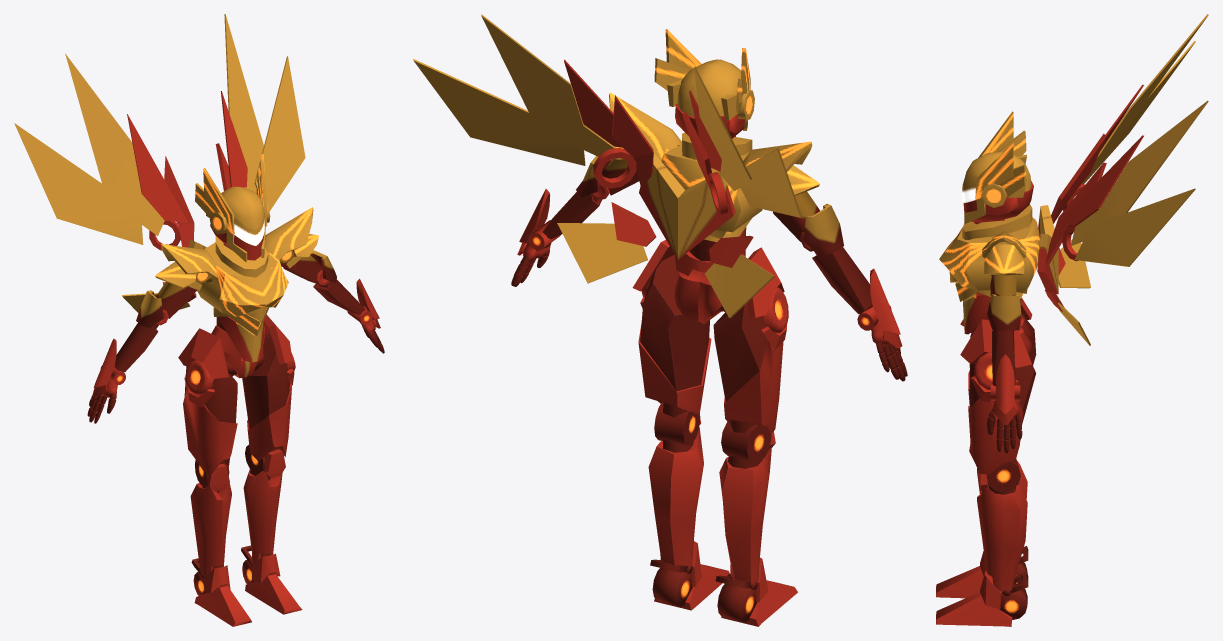
The model's file is Female_8.glb.
The picture shows the model from 3 angles, left to right: view 1: azimuth 30°, elevation 25°; view 2: azimuth 150°, elevation 25°; view 3: azimuth 270°, elevation 25°; orthographic projection. The views are drawn at different scales.
Parts seen in each view (by area): view 1: W1, WW2, WW1, GNG, BR1, GV2, GV1, NT, BR2, GV1.1, ARM1; view 2: W1, WW2, WW1, GNG, GV2, BR1, GV1, ARM1, BR2; view 3: W1, WW2, WW1, GNG, BR2, NT, GV2.2, ARM2, GV2.
Boxes of the visible parts, x1=… form: W1: x1=87, y1=154, x2=384, y2=626; WW2: x1=14, y1=14, x2=305, y2=312; WW1: x1=127, y1=91, x2=247, y2=301; GNG: x1=197, y1=242, x2=288, y2=321; BR1: x1=178, y1=328, x2=228, y2=378; GV2: x1=265, y1=207, x2=313, y2=260; GV1: x1=161, y1=244, x2=217, y2=279; NT: x1=215, y1=236, x2=268, y2=277; BR2: x1=263, y1=314, x2=292, y2=363; GV1.1: x1=155, y1=262, x2=196, y2=287; ARM1: x1=93, y1=338, x2=116, y2=387; W1: x1=511, y1=29, x2=907, y2=626; WW2: x1=413, y1=14, x2=801, y2=318; WW1: x1=564, y1=59, x2=753, y2=267; GNG: x1=661, y1=144, x2=762, y2=238; GV2: x1=609, y1=92, x2=681, y2=160; BR1: x1=747, y1=247, x2=784, y2=317; GV1: x1=739, y1=141, x2=812, y2=188; ARM1: x1=870, y1=268, x2=900, y2=334; BR2: x1=632, y1=240, x2=674, y2=291; W1: x1=936, y1=111, x2=1036, y2=626; WW2: x1=1058, y1=14, x2=1208, y2=345; WW1: x1=1037, y1=84, x2=1143, y2=311; GNG: x1=939, y1=217, x2=1039, y2=293; BR2: x1=960, y1=319, x2=1032, y2=367; NT: x1=962, y1=204, x2=1032, y2=239; GV2.2: x1=984, y1=244, x2=1024, y2=275; ARM2: x1=996, y1=354, x2=1014, y2=414; GV2: x1=982, y1=231, x2=1026, y2=257.
Bounding box in the file's own units: 3.6 × 5.8 × 2.62.
Materials: 2 (2 with a texture image).
